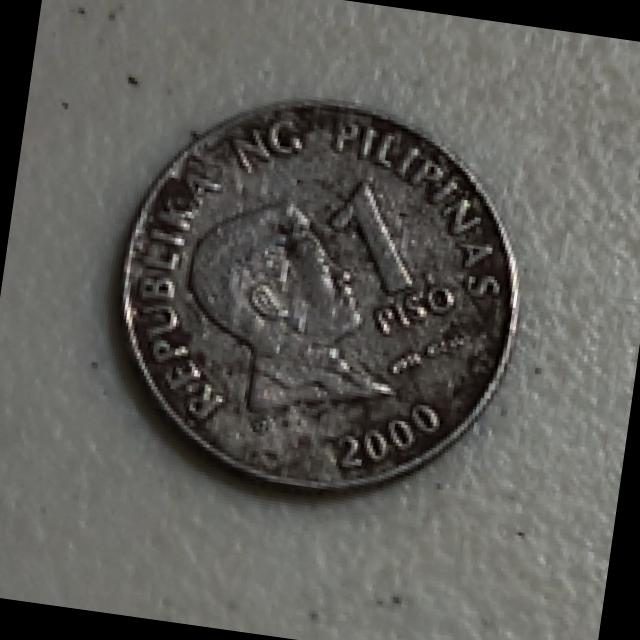1_peso: (122, 107, 516, 488)
